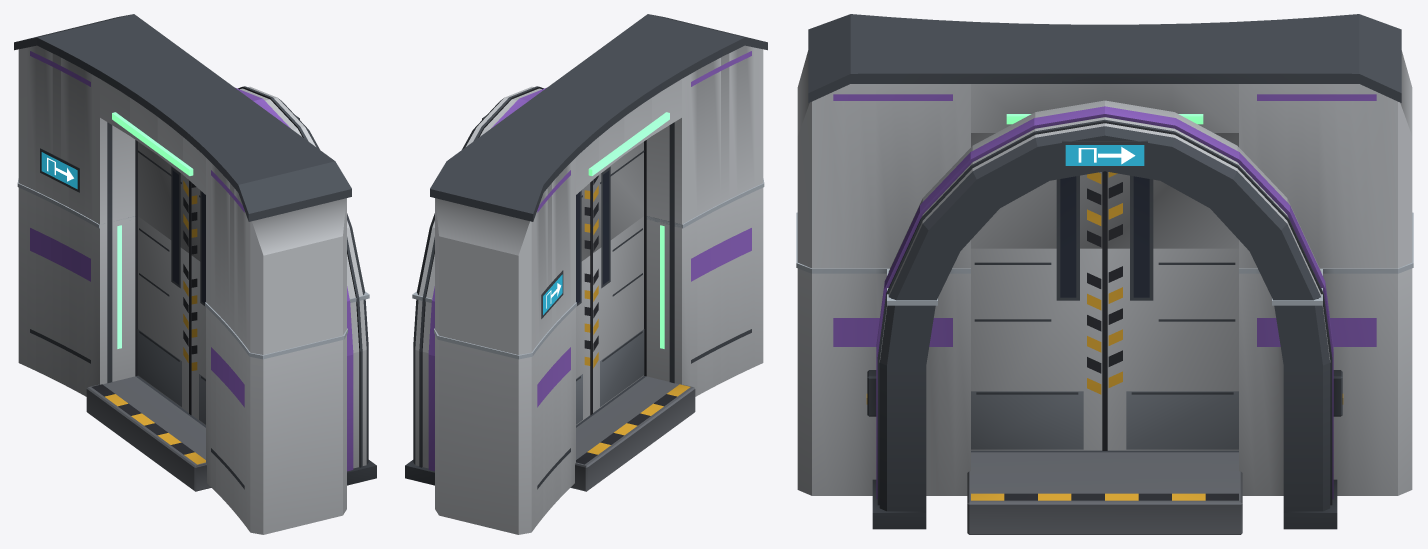
File: doorway_flat_r775.glb
3 renders of one model, left to right at view 1: azimuth 30°, elevation 25°; view 2: azimuth 150°, elevation 25°; view 3: azimuth 270°, elevation 25°, orthographic. The views are drawn at different scales.
Parts seen in each view (by area): view 1: FrameTop, Frame, DoorR, DoorRTop, DoorL, FrameCap, DoorLTop, Sign, Status, Lights; view 2: FrameTop, Frame, DoorL, DoorLTop, DoorR, FrameCap, DoorRTop, Status, Lights, Sign; view 3: FrameTop, Frame, DoorL, DoorR, DoorLTop, DoorRTop, Sign, FrameCap.
Boxes of the visible parts, x1=… form: FrameTop: x1=14, y1=14, x2=364, y2=354; Frame: x1=18, y1=188, x2=376, y2=534; DoorR: x1=137, y1=216, x2=189, y2=414; DoorRTop: x1=137, y1=142, x2=189, y2=254; DoorL: x1=190, y1=255, x2=205, y2=425; FrameCap: x1=17, y1=178, x2=369, y2=359; DoorLTop: x1=190, y1=181, x2=205, y2=265; Sign: x1=40, y1=116, x2=299, y2=192; Status: x1=112, y1=112, x2=193, y2=175; Lights: x1=117, y1=225, x2=121, y2=348; FrameTop: x1=417, y1=14, x2=767, y2=354; Frame: x1=405, y1=188, x2=763, y2=534; DoorL: x1=592, y1=216, x2=644, y2=414; DoorLTop: x1=592, y1=142, x2=644, y2=254; DoorR: x1=576, y1=255, x2=591, y2=425; FrameCap: x1=412, y1=178, x2=764, y2=359; DoorRTop: x1=576, y1=181, x2=591, y2=265; Status: x1=588, y1=112, x2=669, y2=175; Lights: x1=660, y1=225, x2=664, y2=348; Sign: x1=482, y1=116, x2=563, y2=318; FrameTop: x1=797, y1=14, x2=1412, y2=300; Frame: x1=797, y1=268, x2=1412, y2=534; DoorL: x1=971, y1=248, x2=1104, y2=450; DoorR: x1=1105, y1=248, x2=1238, y2=450; DoorLTop: x1=971, y1=133, x2=1104, y2=249; DoorRTop: x1=1105, y1=133, x2=1238, y2=249; Sign: x1=1062, y1=140, x2=1147, y2=168; FrameCap: x1=796, y1=212, x2=1413, y2=305.
Bounding box in the file's own units: 1.25 × 2.67 × 3.46.
